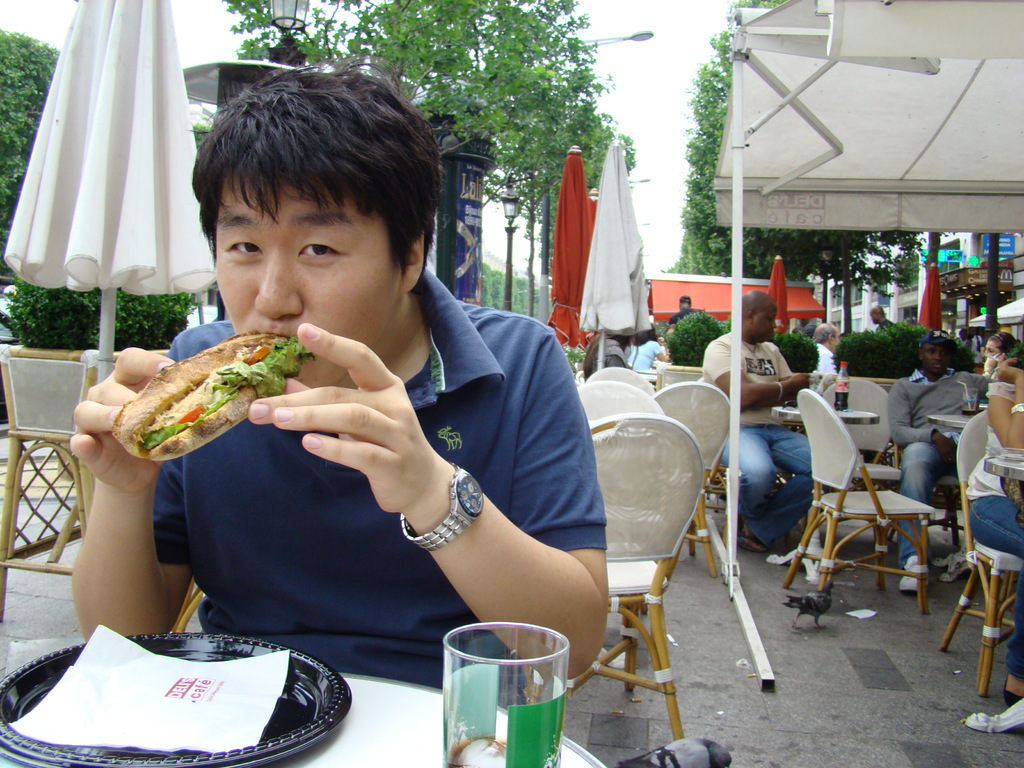sandwich: (111, 327, 314, 462)
